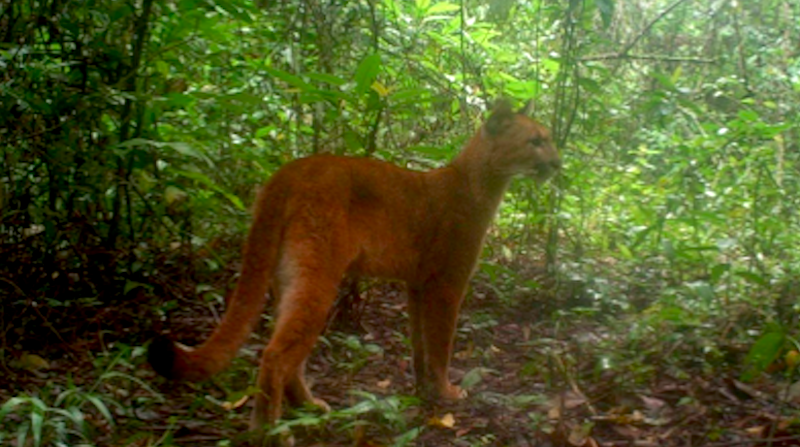OncaParda: (135, 92, 565, 437)
